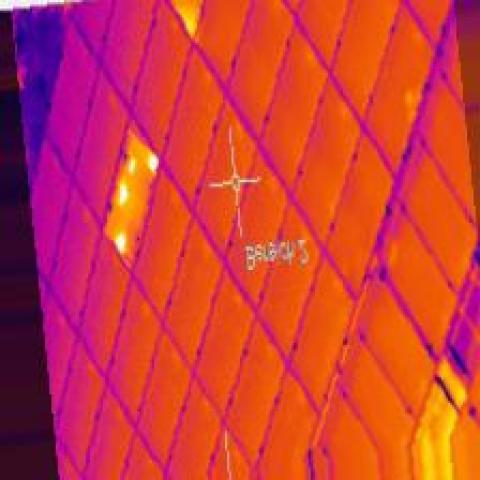fault: (169, 2, 204, 37), (401, 86, 418, 124), (143, 152, 163, 176), (112, 232, 128, 257), (114, 182, 128, 208), (125, 152, 140, 176)
